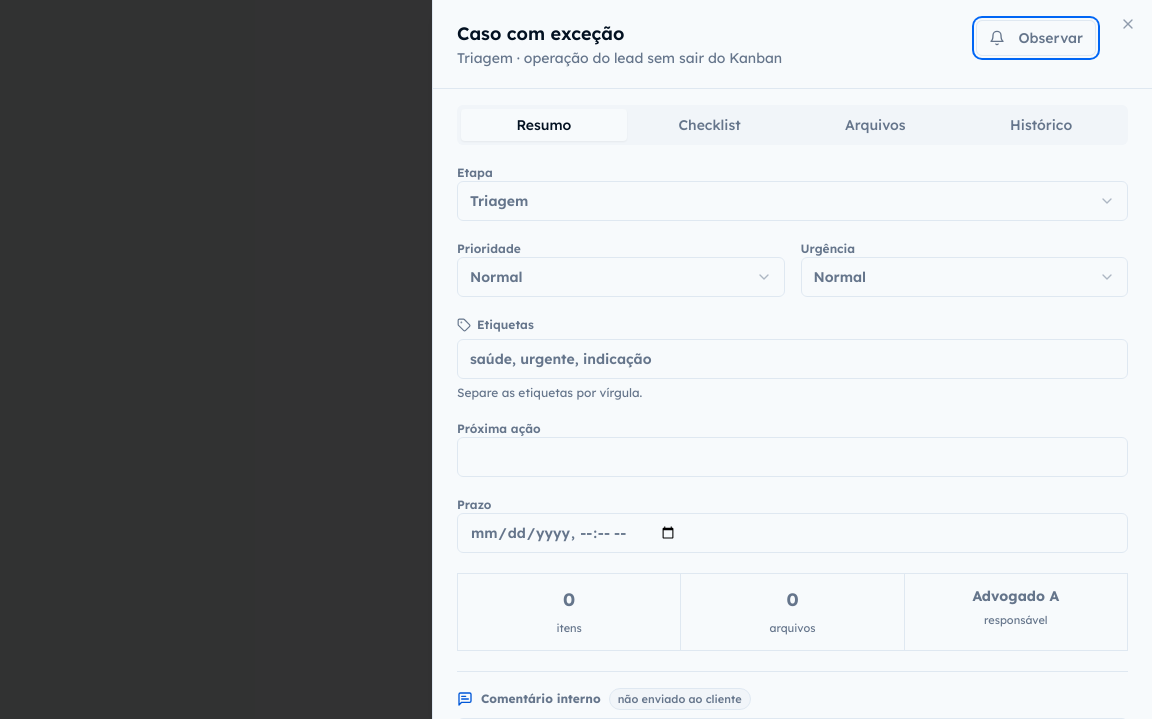
Test: Tarefa gerada por exceção — selo no to-do › mostra o selo "gerado por falha" com link para o caso quando a task tem sourceExceptionId
Press the mouse on the tab "Checklist" at (710, 125), box [627,109,793,141]
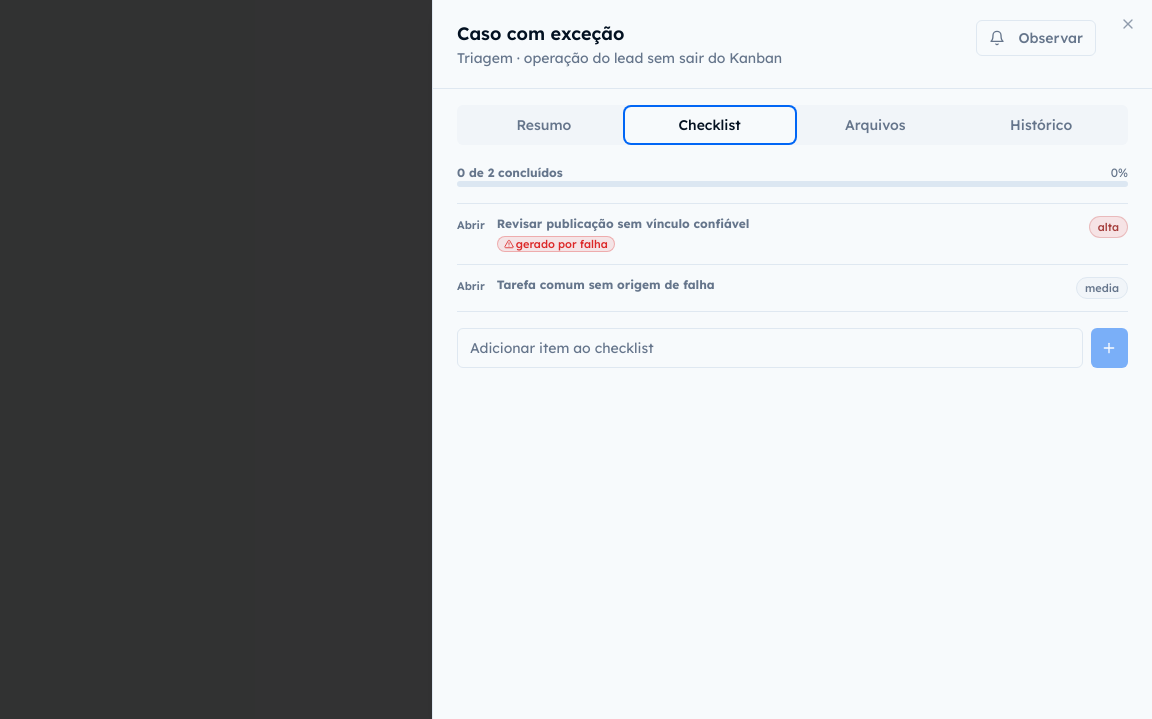
Check: the text "Revisar publicação sem vínculo confiável" is shown, box [497,216,750,231]
Check: the button "Tarefa comum sem origem de falha" is shown, box [457,264,1128,311]
